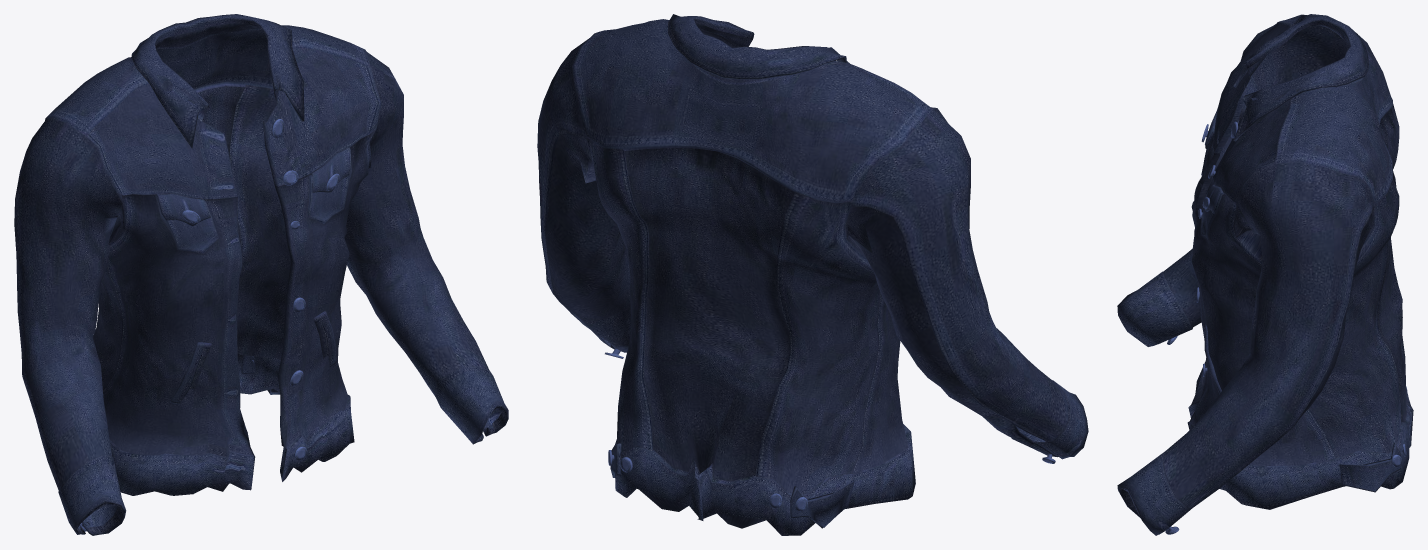
Rendered from blazer-navy.glb.
3 views of the same model, side by side, from view 1: azimuth 30°, elevation 25°; view 2: azimuth 150°, elevation 25°; view 3: azimuth 270°, elevation 25° (orthographic). The views are drawn at different scales.
Parts seen in each view (by area): view 1: jacket-denim; view 2: jacket-denim; view 3: jacket-denim.
Boxes of the visible parts, bbox=[...] form: jacket-denim: bbox=[14, 14, 508, 535]; jacket-denim: bbox=[537, 14, 1088, 535]; jacket-denim: bbox=[1117, 14, 1413, 535].
Bounding box in the file's own units: 0.6995 × 0.6324 × 0.414.
1 material, 1 textured.
